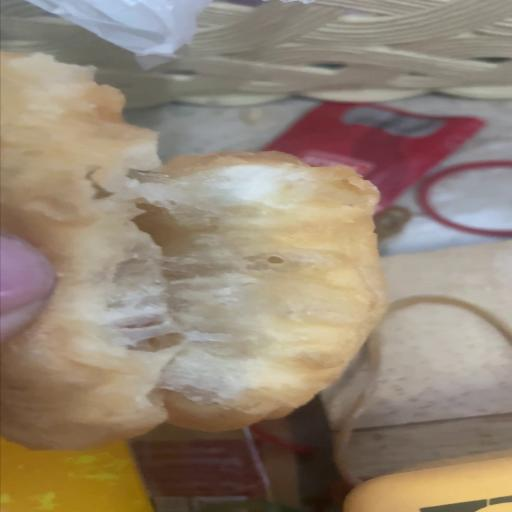street_golden_defect: (0, 143, 386, 438)
